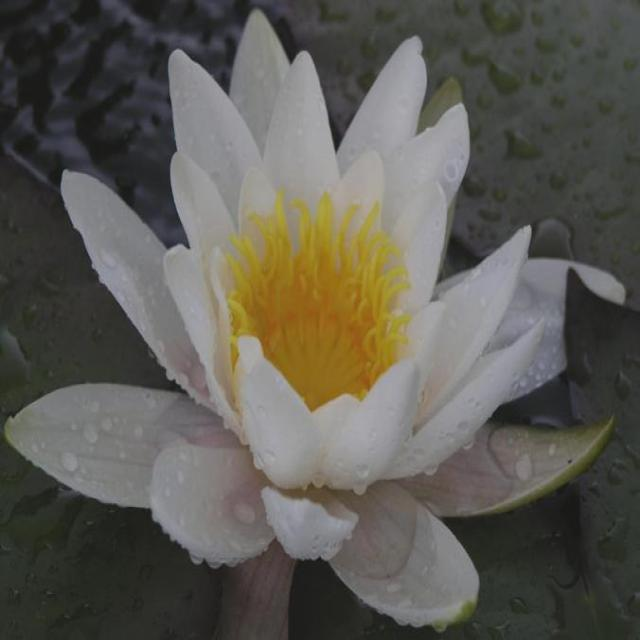rose: (18, 15, 640, 640)
